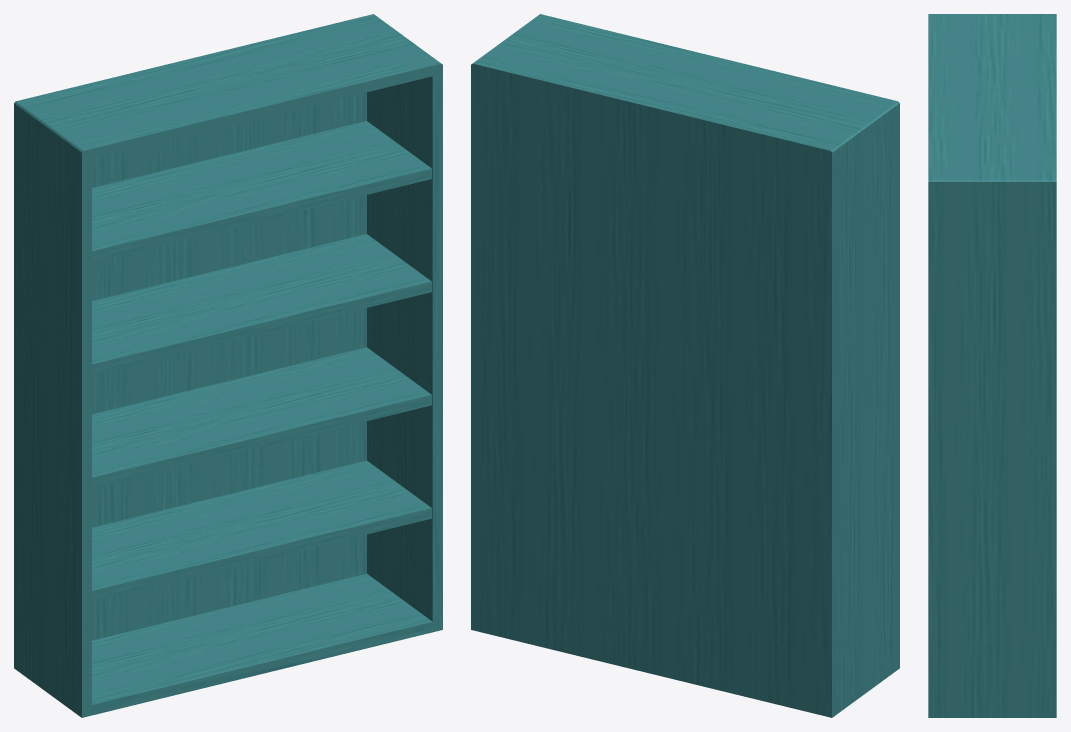
The model's file is Bookshelf_G.FBX.
3 views of the same model, side by side, from view 1: azimuth 30°, elevation 25°; view 2: azimuth 150°, elevation 25°; view 3: azimuth 270°, elevation 25° (orthographic). The views are drawn at different scales.
Visible parts, largest first — view 1: Bookshelf; view 2: Bookshelf; view 3: Bookshelf.
Part boxes in pixels (<box>): Bookshelf: <box>14,14,442,717</box>; Bookshelf: <box>471,14,899,717</box>; Bookshelf: <box>928,14,1056,717</box>.
Size of the model in its own units: 200 by 300 by 65.
